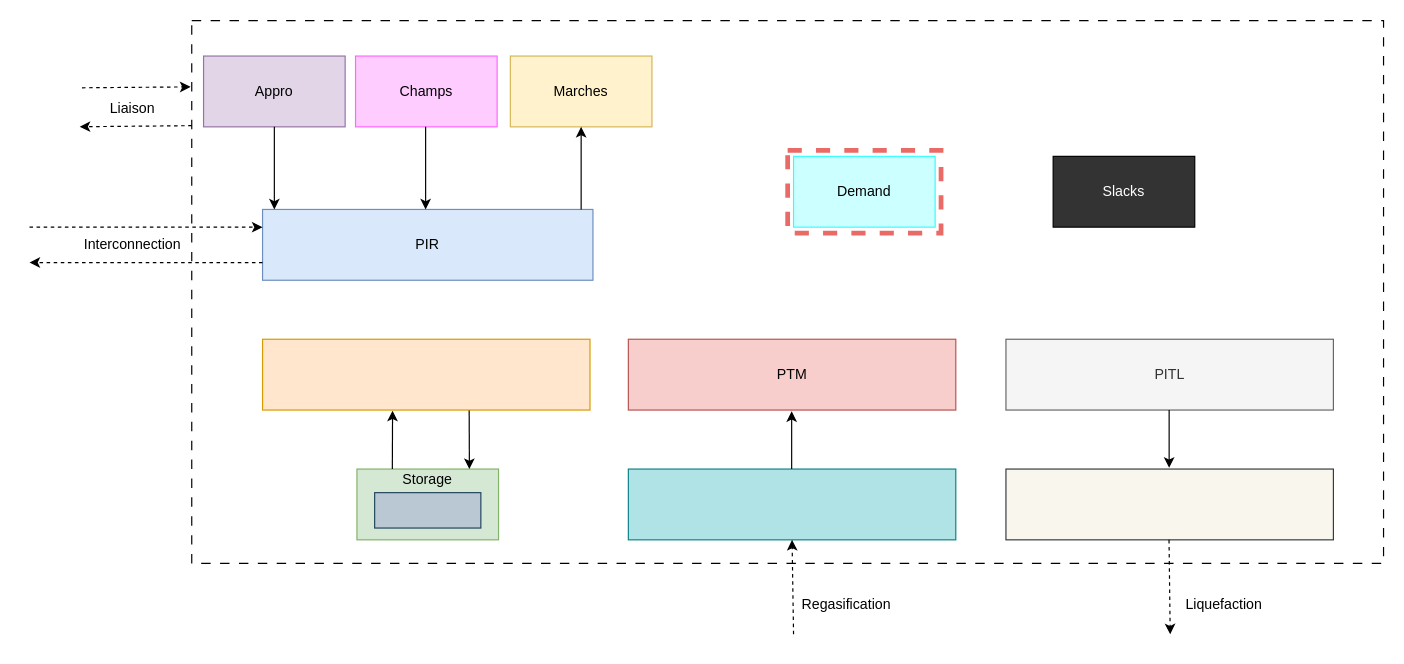
This 1404x664 diagram has some shape labels left out. The shapes that lost their labels are listed below. From the top down, each one's centre as x and y in pixels, then its label:
At pixel 425 374: "PITS".
At pixel 427 509: "Compte Gaz".
At pixel 791 504: "ATTM".
At pixel 1169 504: "TL".
